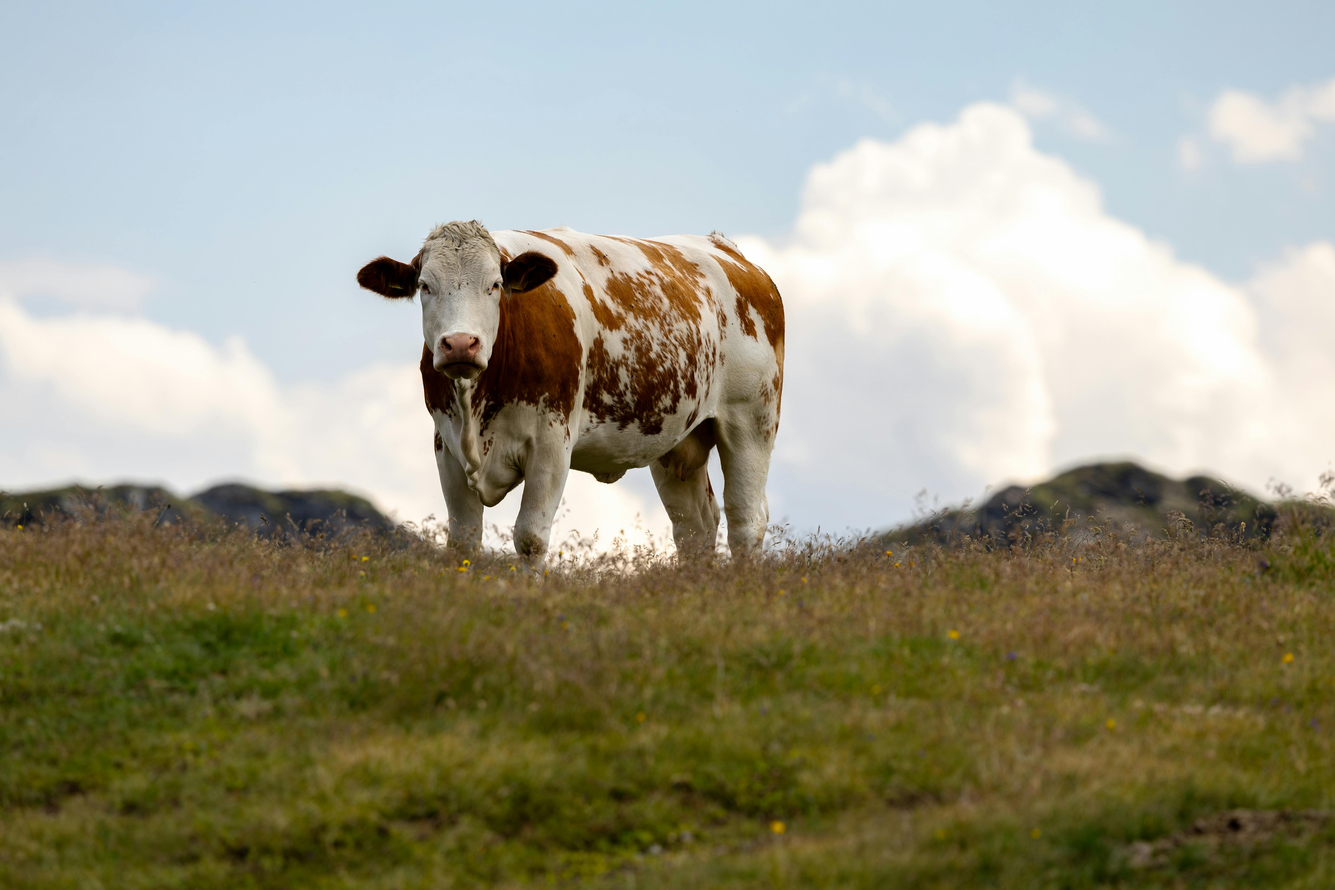bovino: (350, 218, 788, 564)
